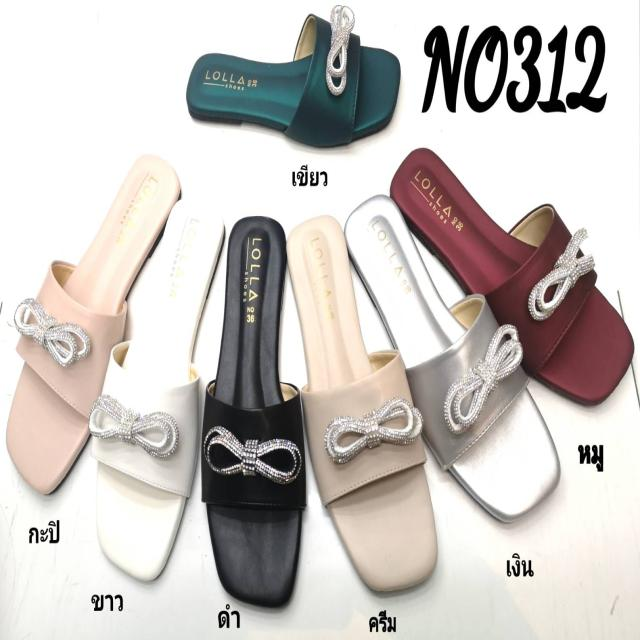black: (206, 216, 307, 598)
cream: (293, 213, 437, 585)
green: (187, 17, 399, 154)
kapi: (6, 149, 180, 492)
moo: (395, 152, 631, 406)
silver: (342, 191, 561, 530)
white: (97, 204, 225, 586)
